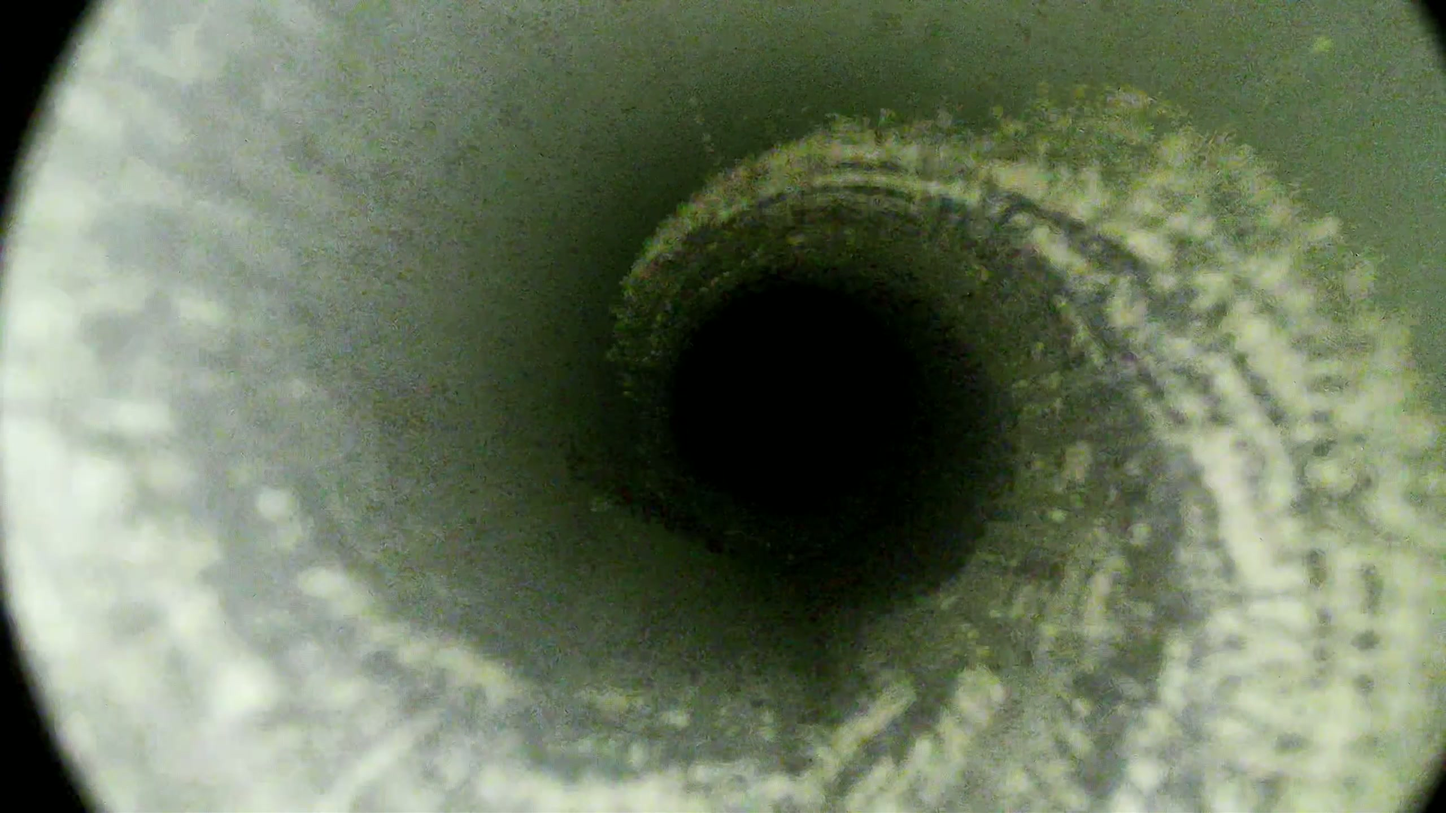hole: (681, 286, 904, 515)
